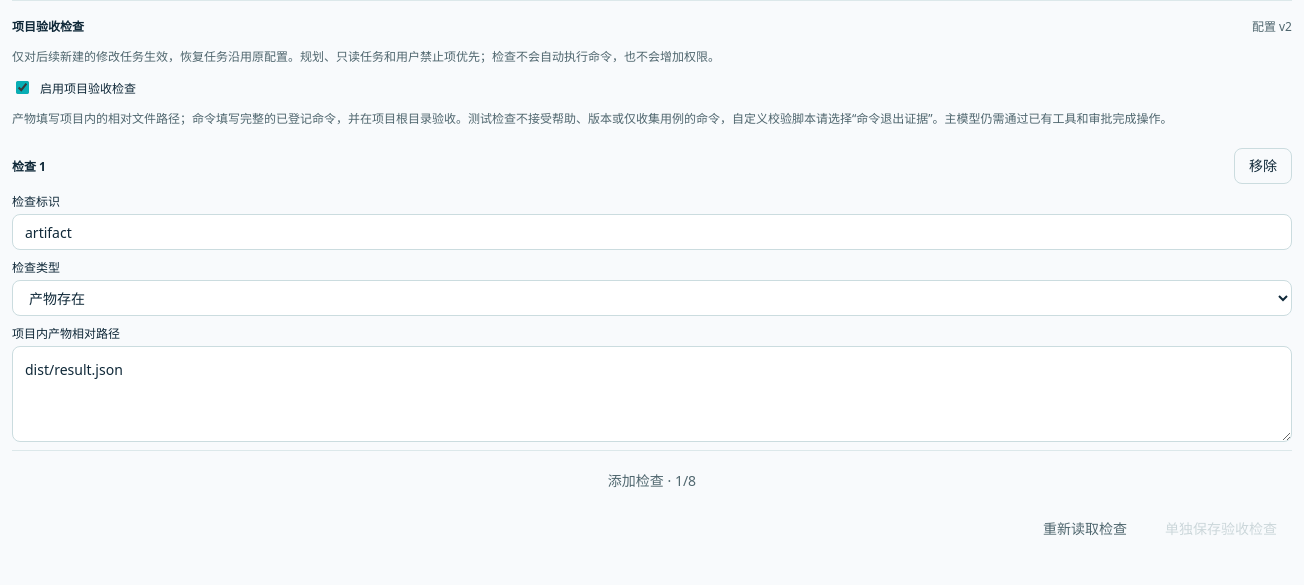
Scenario: 项目验收检查 › 后端拒绝检查范围时显示校验失败，保留草稿供修正
The image size is (1304, 585).
Step 1. Replace the text in the text box with test id "observer-check-scope" with "/outside/result.json" → (652,394), box left=12, top=346, right=1292, bottom=442
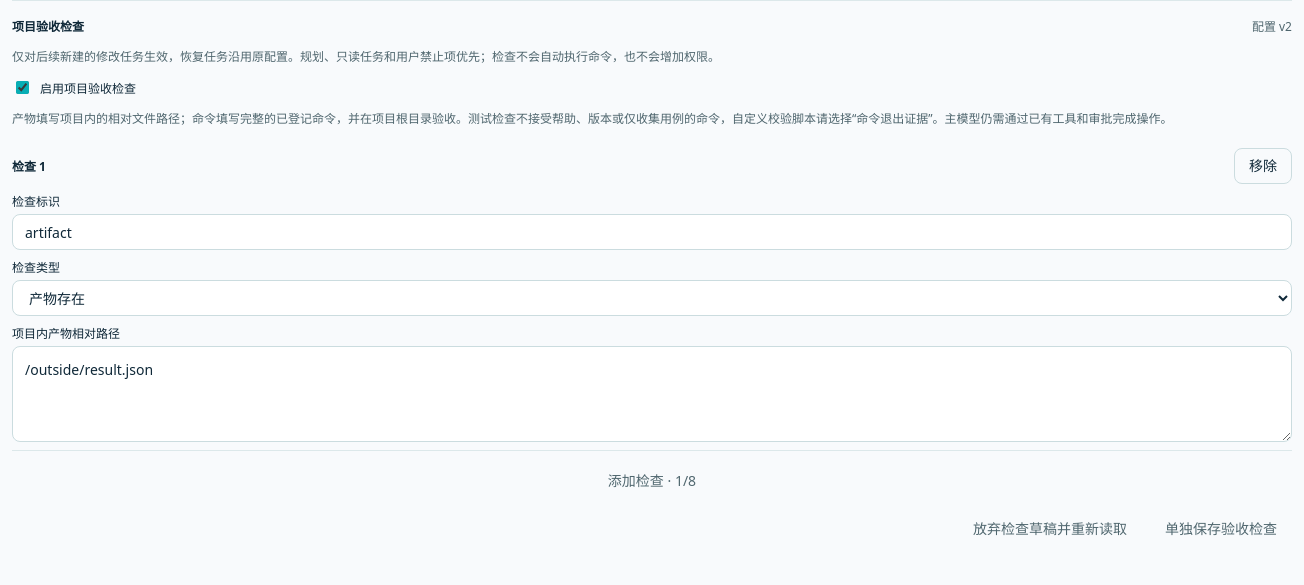
Step 2. Click the button with test id "observer-config-save" → (1221,529), box left=1150, top=511, right=1292, bottom=547
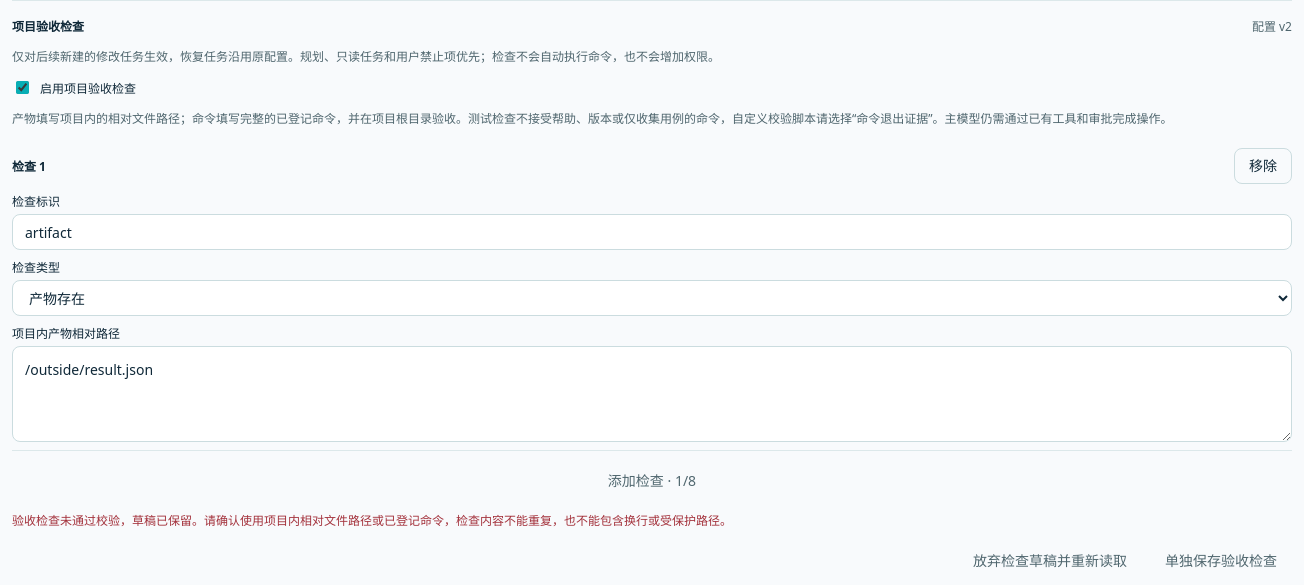
Expected: the text "未通过校验" is shown, left=12, top=512, right=732, bottom=529
